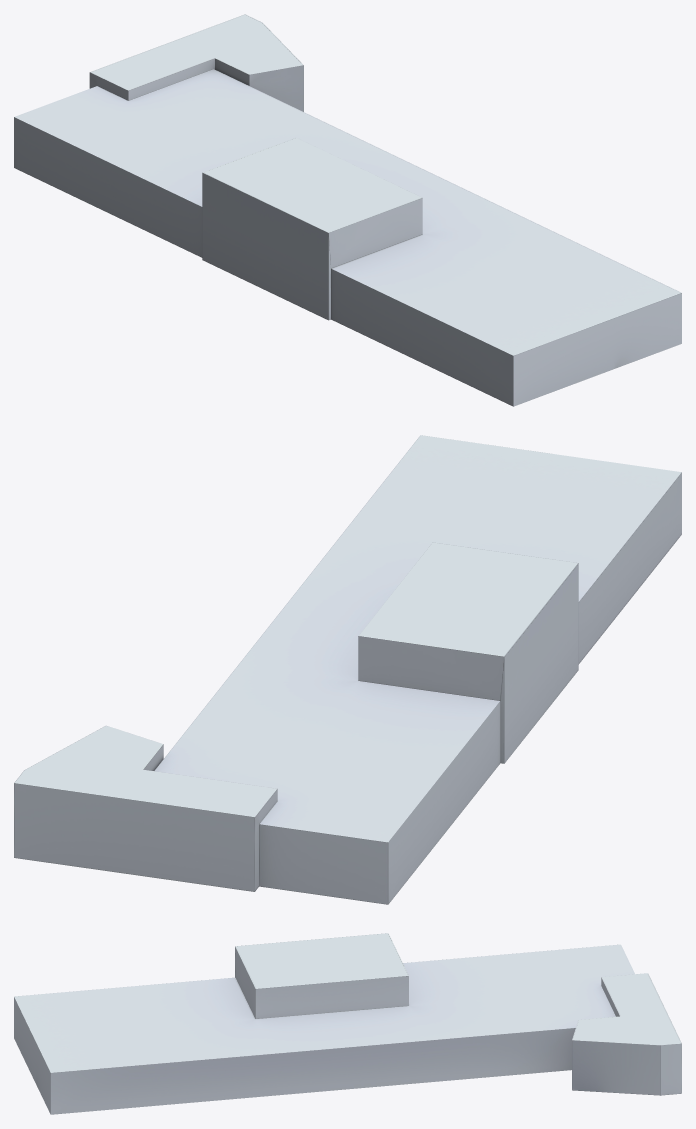
File: base_roofplant.glb
3 views of the same model, one above another, from view 1: azimuth 30°, elevation 25°; view 2: azimuth 150°, elevation 25°; view 3: azimuth 270°, elevation 25° (orthographic). The views are drawn at different scales.
Parts seen in each view (by area): view 1: roof_plant_; view 2: roof_plant_; view 3: roof_plant_.
Boxes of the visible parts, x1,y1,x2,y2 form: roof_plant_: [14, 14, 681, 406]; roof_plant_: [14, 435, 681, 904]; roof_plant_: [14, 933, 681, 1114].
Bounding box in the file's own units: 16.51 × 4.3 × 36.26.
1 material, 1 textured.
